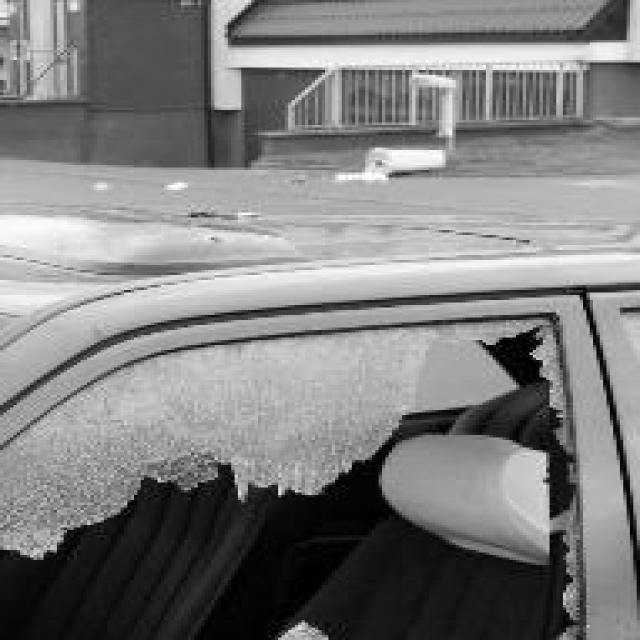Door: (7, 255, 640, 640)
